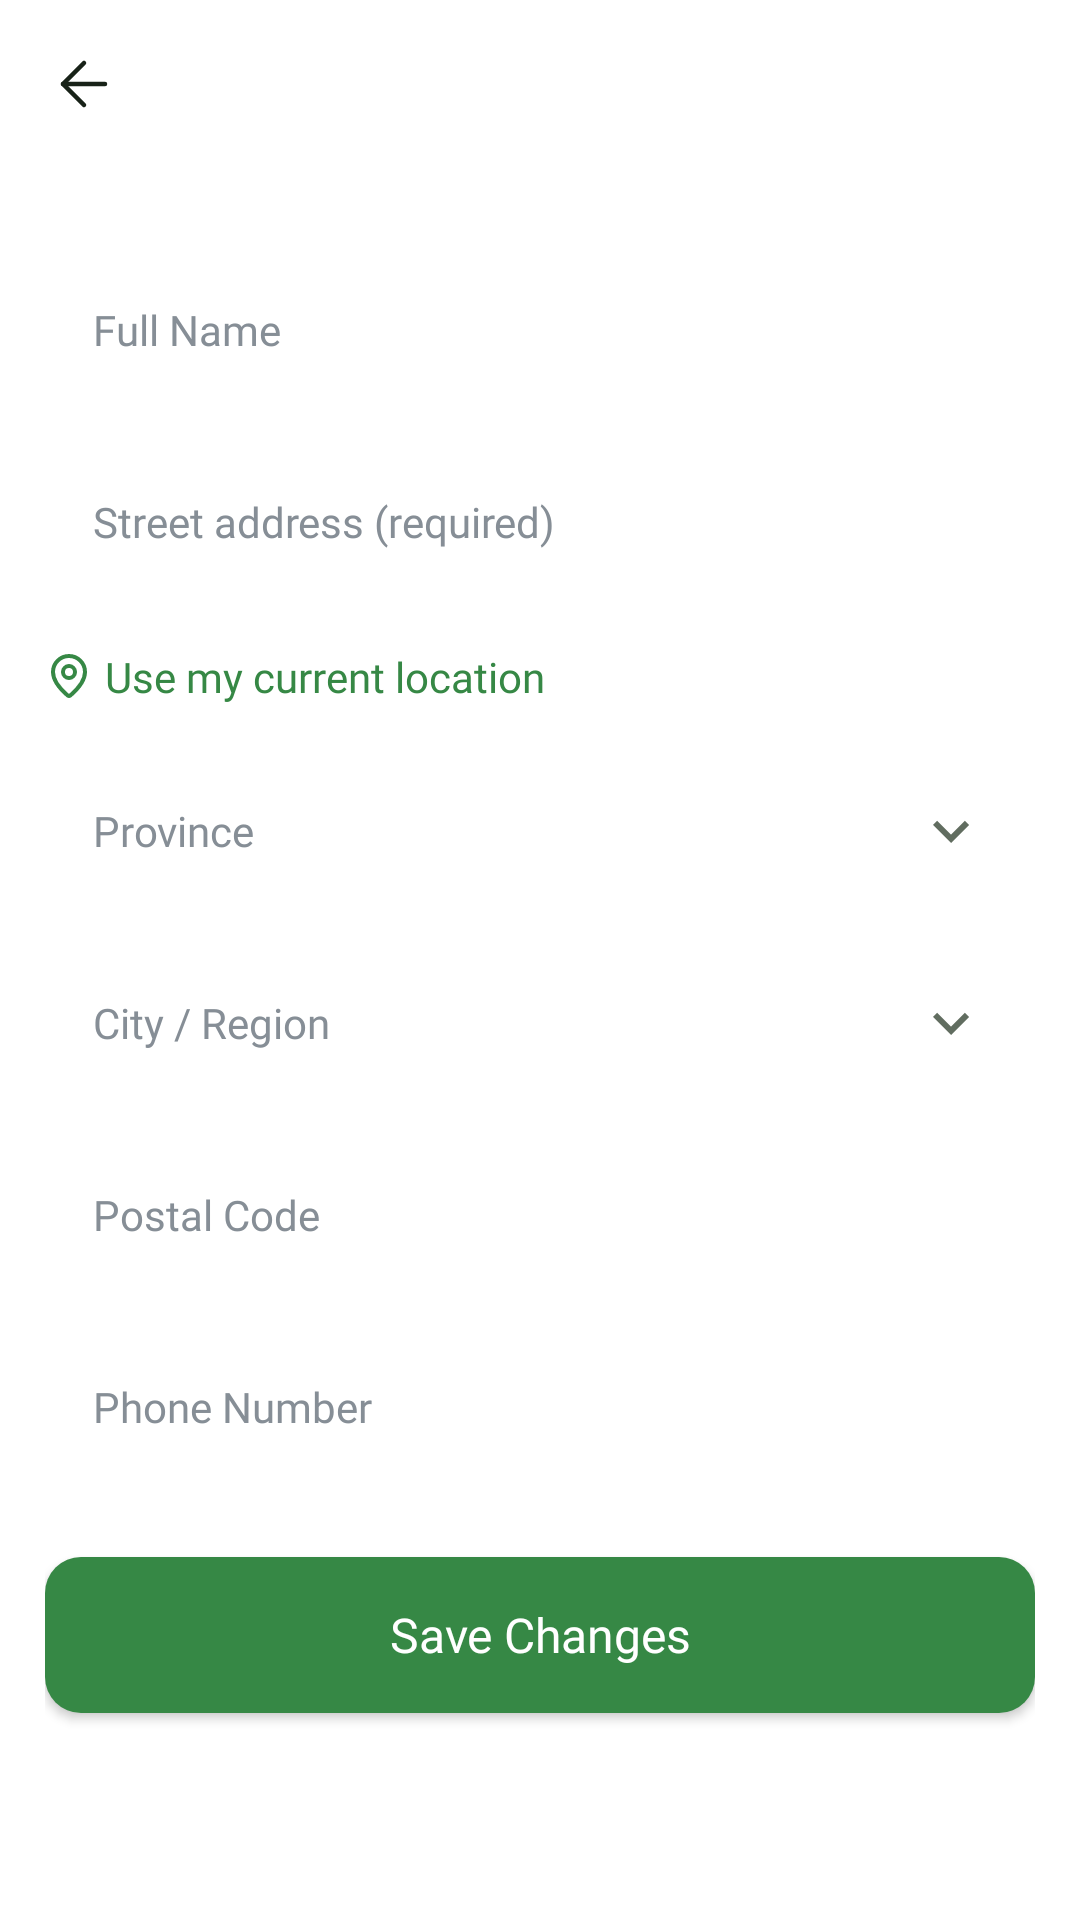

Icons on this 1080×1920 Android screen, each with the point to tap as [x,y]:
Back: [83,84]
